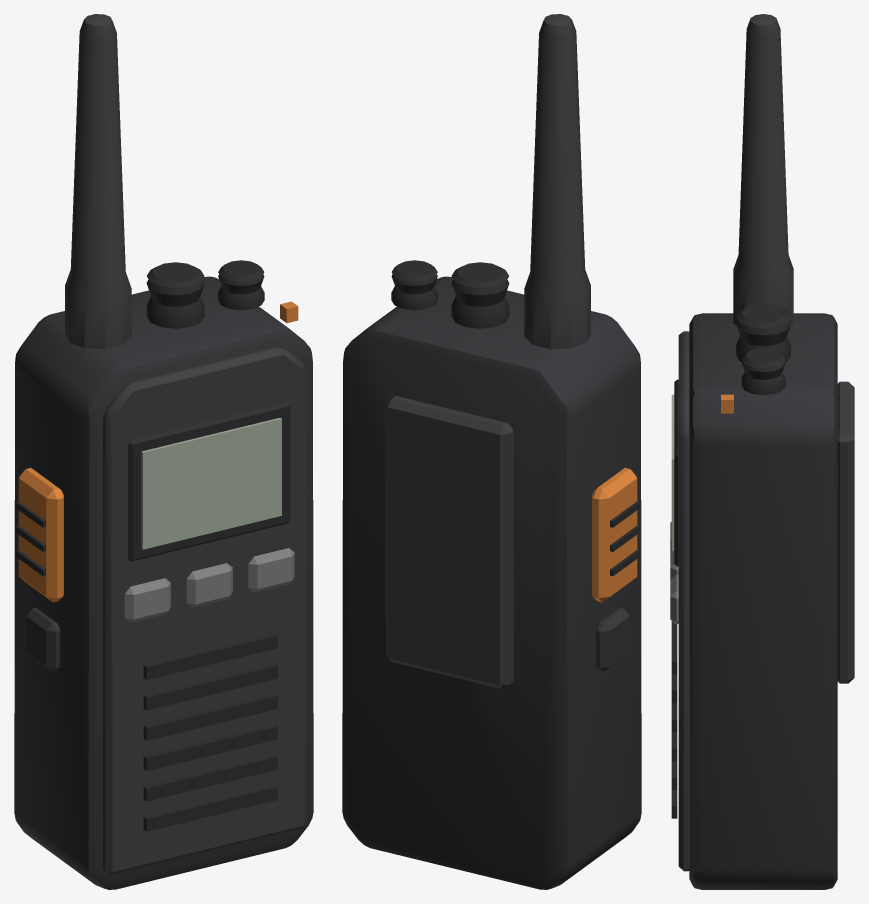
Rendered from WalkieTalkie.fbx.
3 renders of one model, left to right at view 1: azimuth 30°, elevation 25°; view 2: azimuth 150°, elevation 25°; view 3: azimuth 270°, elevation 25°, orthographic. The views are drawn at different scales.
Visible parts, largest first — view 1: WalkieTalkie_Mesh; view 2: WalkieTalkie_Mesh; view 3: WalkieTalkie_Mesh.
Boxes of the visible parts, x1=… form: WalkieTalkie_Mesh: x1=14, y1=14, x2=313, y2=889; WalkieTalkie_Mesh: x1=342, y1=14, x2=641, y2=889; WalkieTalkie_Mesh: x1=670, y1=14, x2=854, y2=889.
Bounding box in the file's own units: 0.0648 × 0.209 × 0.0435.
